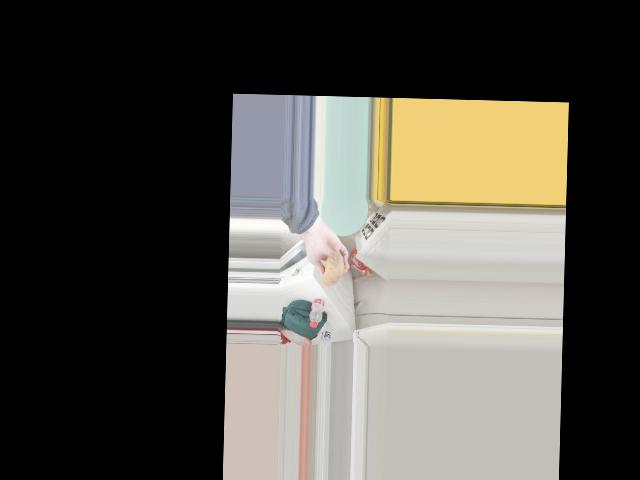sweet_potato: (324, 246, 343, 287)
